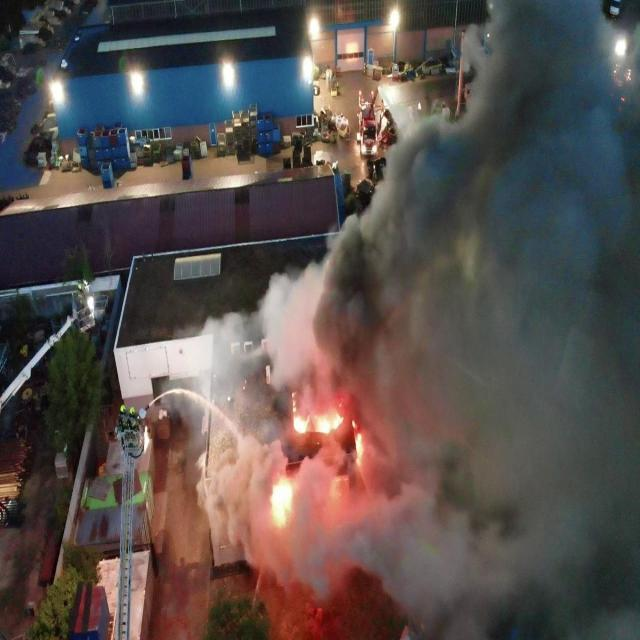Fire: (270, 478, 293, 526), (314, 412, 344, 434), (293, 416, 310, 434), (355, 433, 363, 466), (292, 392, 296, 412), (352, 420, 356, 428)
Smoke: (169, 0, 640, 640)
